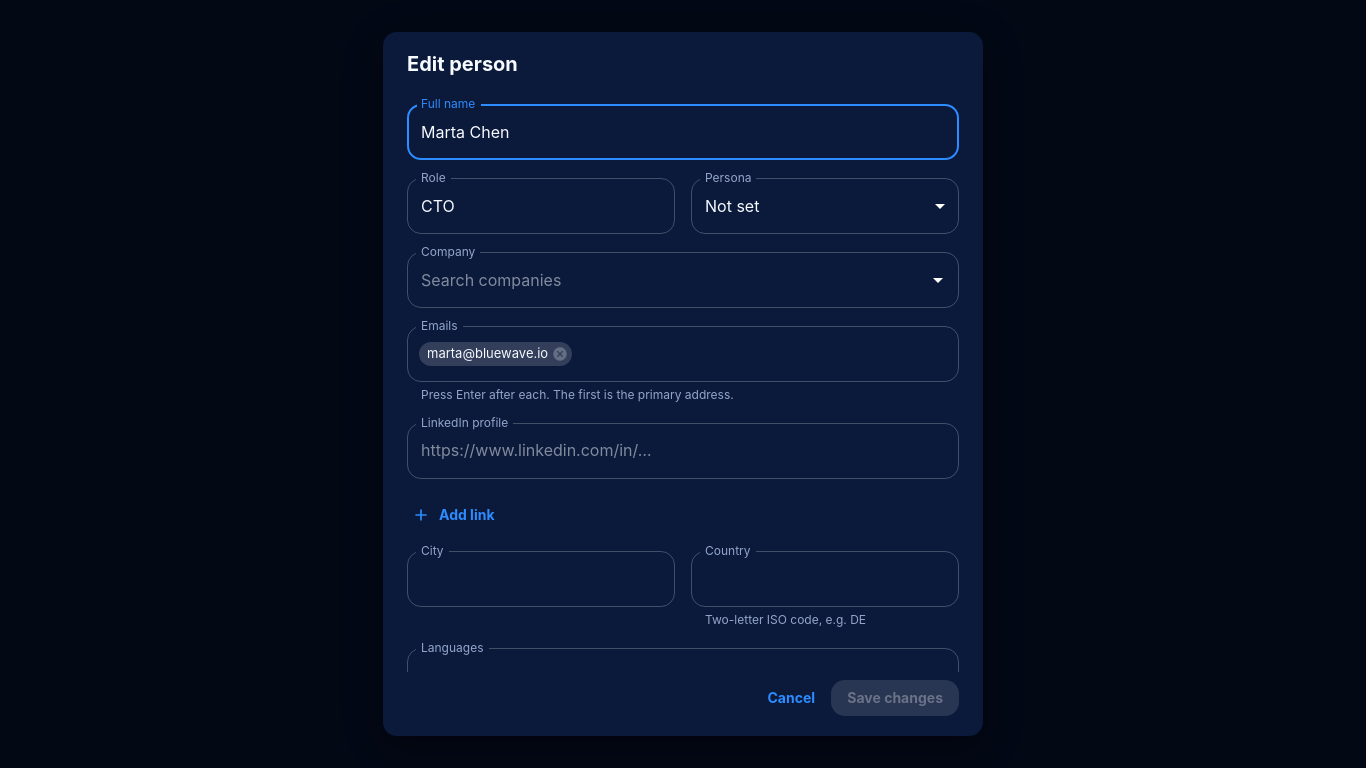
Test: PersonFormDialog (editing) › rejects a link that is not a web address before sending anything
Click the button "Add link" at (455, 515), box 407,497 -> 502,533
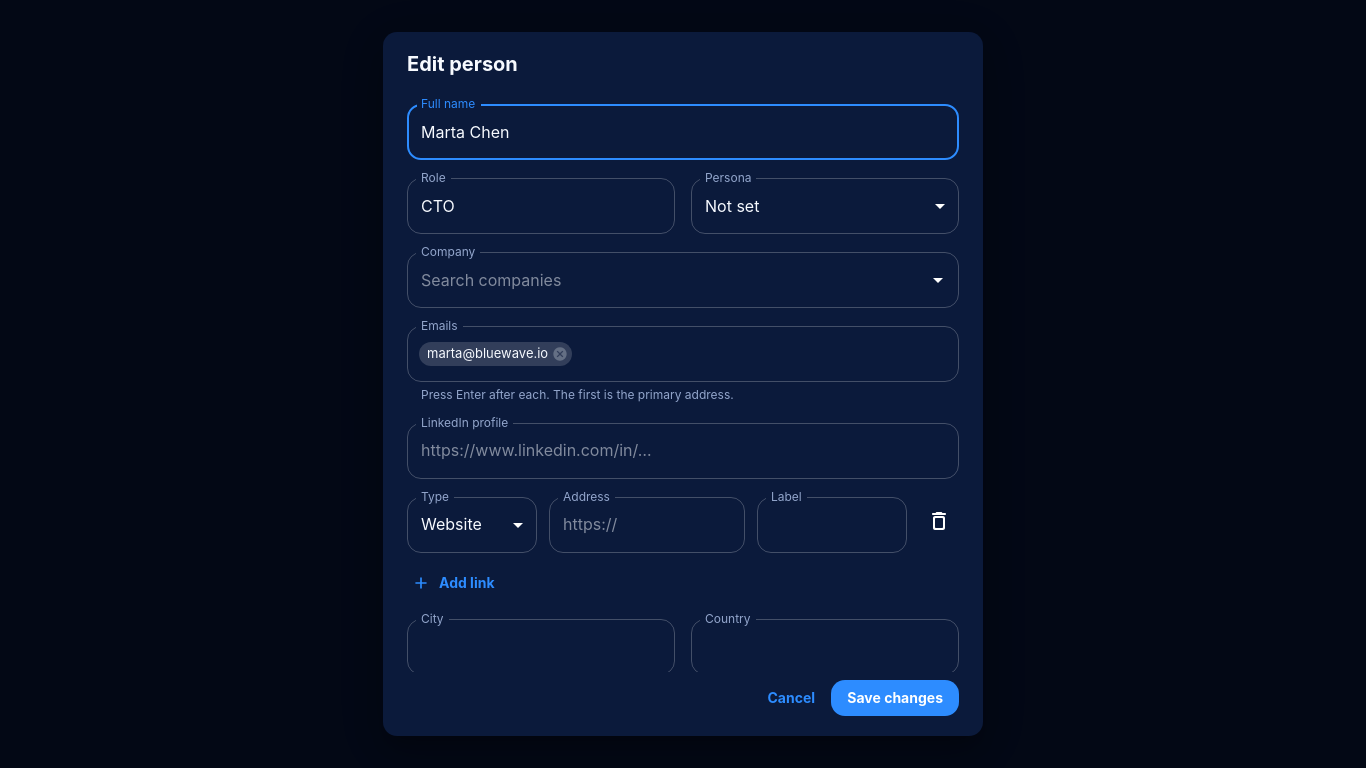
Type "not a link" into the field labelled "Address" at (647, 525), box 549,497 -> 745,553
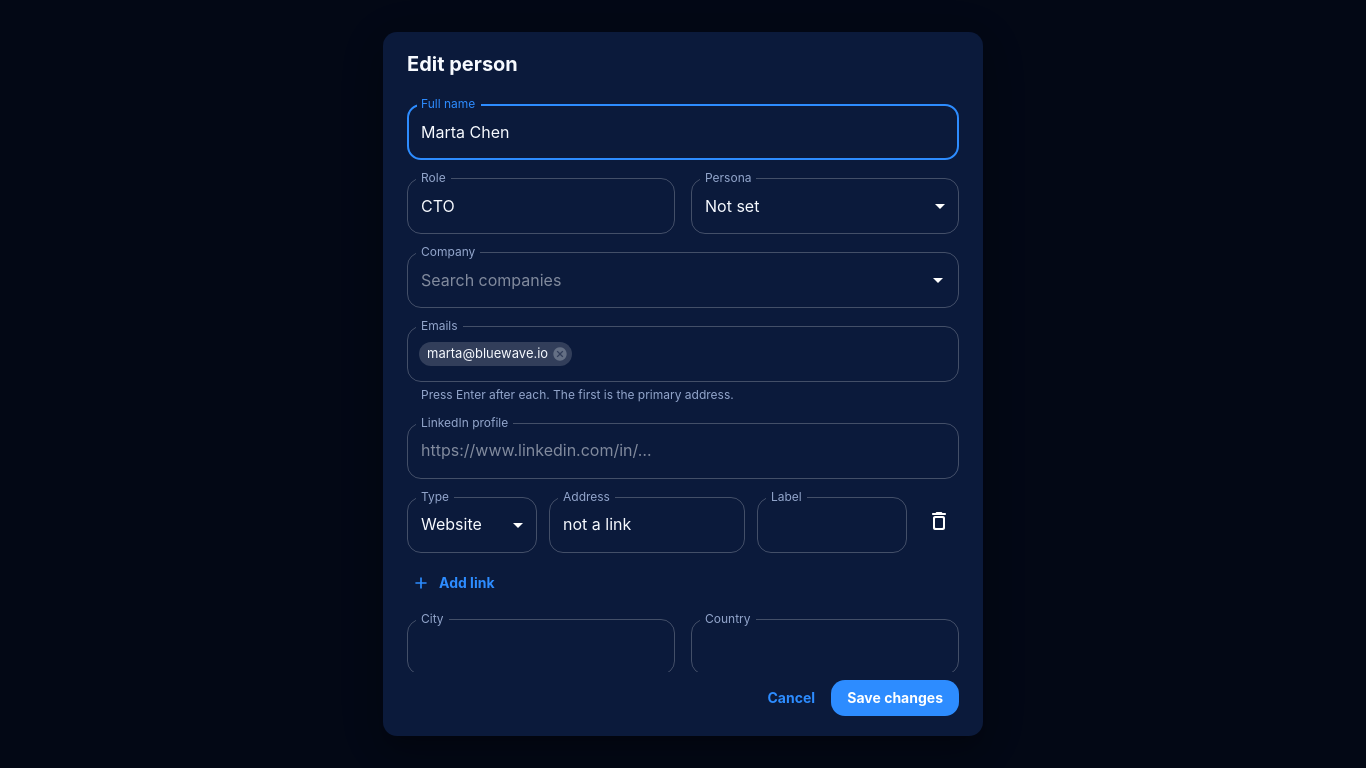
Click the button "Save changes" at (895, 698), box 831,680 -> 959,716
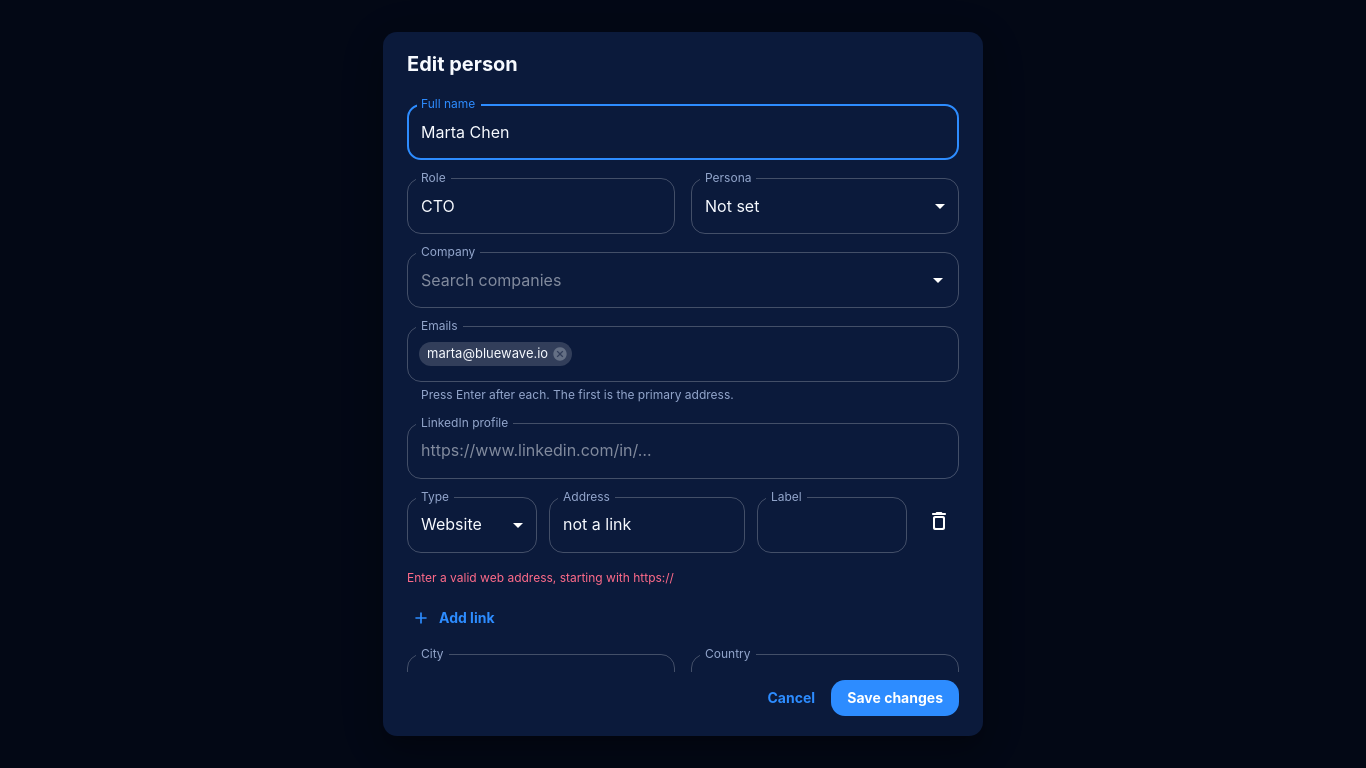
Expected: the text "Enter a valid web address, starting with https://" is shown, 407,570 -> 674,585
